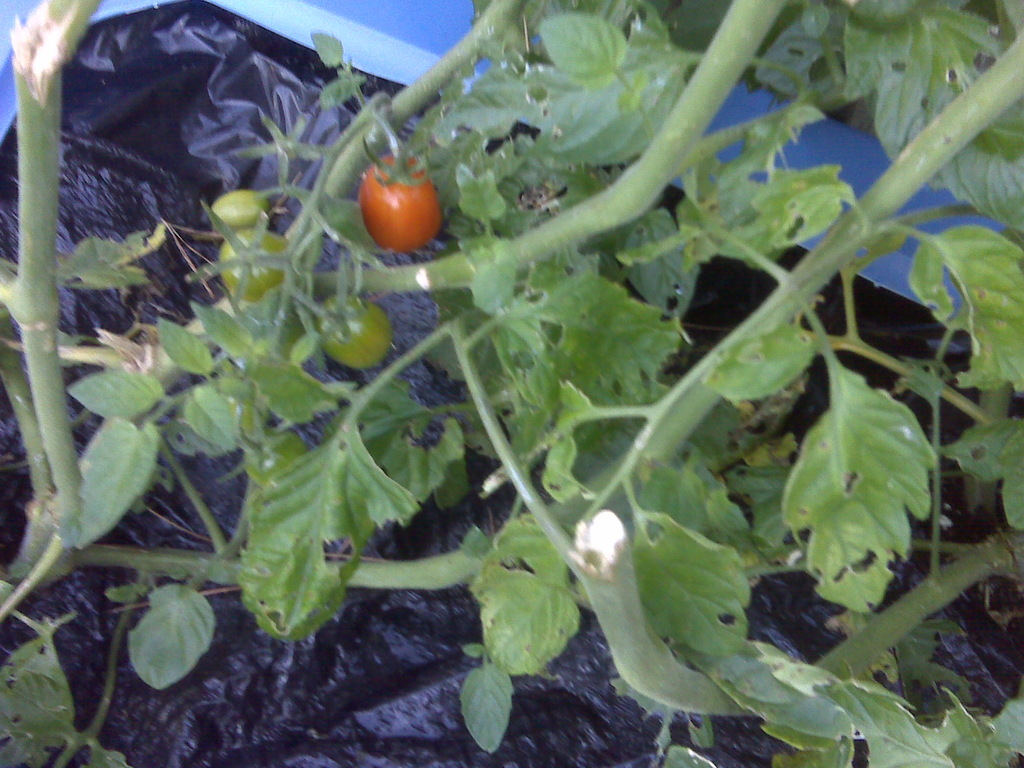Tomato: (354, 149, 439, 252), (316, 291, 389, 373), (222, 223, 286, 301)
